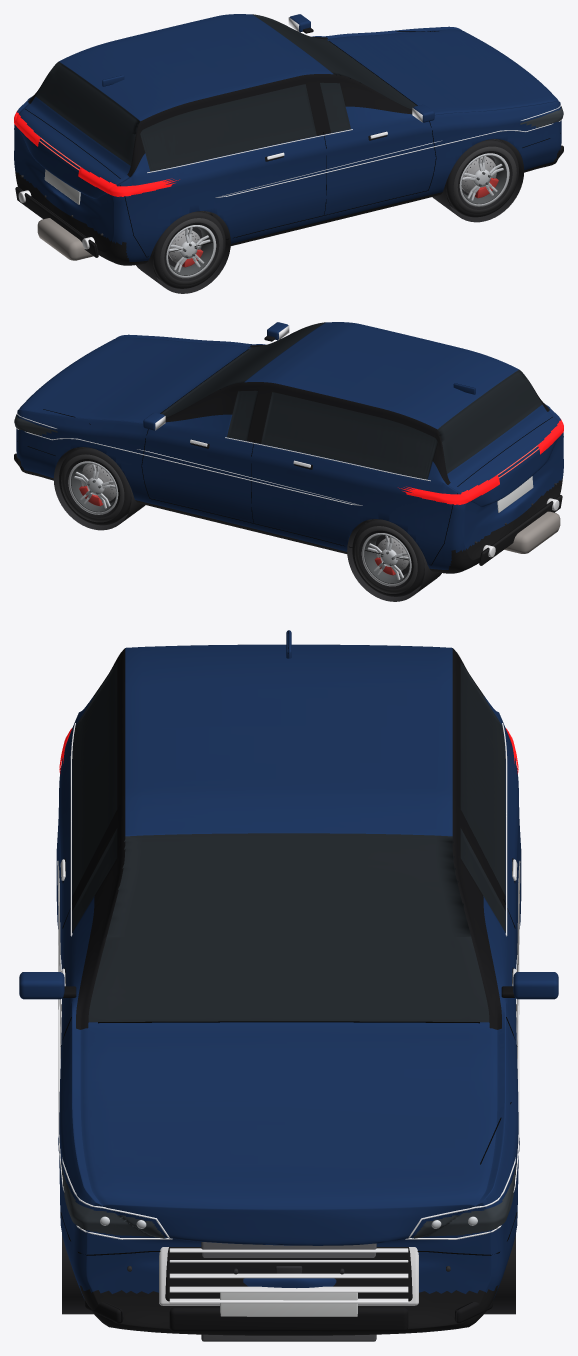
The model's file is kleinwagen.glb.
3 renders of one model, top to bottom at view 1: azimuth 30°, elevation 25°; view 2: azimuth 150°, elevation 25°; view 3: azimuth 270°, elevation 25°, orthographic. The views are drawn at different scales.
Visible parts, largest first — view 1: karosserie, bt:rad_hr, bt:rad_vr, bt:auspuff, rueckleuchte_-1, radhausschale.003, radhausschale.001, scheinwerfer_rand_-1, diffusor, bt:bremse_vr, bt:bremse_hr, kennzeichen_hinten (+1 smaller); view 2: karosserie, bt:rad_hl, bt:rad_vl, bt:auspuff, rueckleuchte_1, radhausschale.002, radhausschale, scheinwerfer_rand_1, diffusor, bt:bremse_vl, bt:bremse_hl, kennzeichen_hinten (+1 smaller); view 3: karosserie, grill, lufteinlass, bt:kuehler, kennzeichen_vorn, scheinwerfer_-1, scheinwerfer_1, grill_lamelle_1, grill_lamelle_2, scheinwerfer_rand_1, scheinwerfer_rand_-1, spiegel_1 (+6 smaller).
Part boxes in pixels (x1,y1,x2,y2): karosserie: (14,14,561,265); bt:rad_hr: (153,211,225,288); bt:rad_vr: (446,139,518,217); bt:auspuff: (37,218,93,260); rueckleuchte_-1: (78,167,179,196); radhausschale.003: (136,212,230,293); radhausschale.001: (432,139,524,222); scheinwerfer_rand_-1: (215,105,561,197); diffusor: (15,187,98,257); bt:bremse_vr: (461,156,498,198); bt:bremse_hr: (168,229,203,267); kennzeichen_hinten: (44,169,80,204); karosserie: (16,322,563,573); bt:rad_hl: (352,519,424,596); bt:rad_vl: (59,447,131,525); bt:auspuff: (504,511,560,553); rueckleuchte_1: (398,475,499,504); radhausschale.002: (347,520,441,601); radhausschale: (53,448,145,530); scheinwerfer_rand_1: (16,413,362,505); diffusor: (479,495,562,565); bt:bremse_vl: (79,464,116,506); bt:bremse_hl: (374,537,409,575); kennzeichen_hinten: (497,476,533,512); karosserie: (56,644,521,1335); grill: (165,1247,412,1301); lufteinlass: (169,1307,408,1331); bt:kuehler: (201,1242,376,1341); kennzeichen_vorn: (220,1292,357,1316); scheinwerfer_-1: (61,1161,166,1238); scheinwerfer_1: (412,1161,516,1238); grill_lamelle_1: (169,1286,408,1292); grill_lamelle_2: (169,1273,408,1278); scheinwerfer_rand_1: (405,861,520,1239); scheinwerfer_rand_-1: (57,861,172,1239); spiegel_1: (513,972,558,999).
Size of the model in its own units: 4.17 by 1.49 by 2.03.
